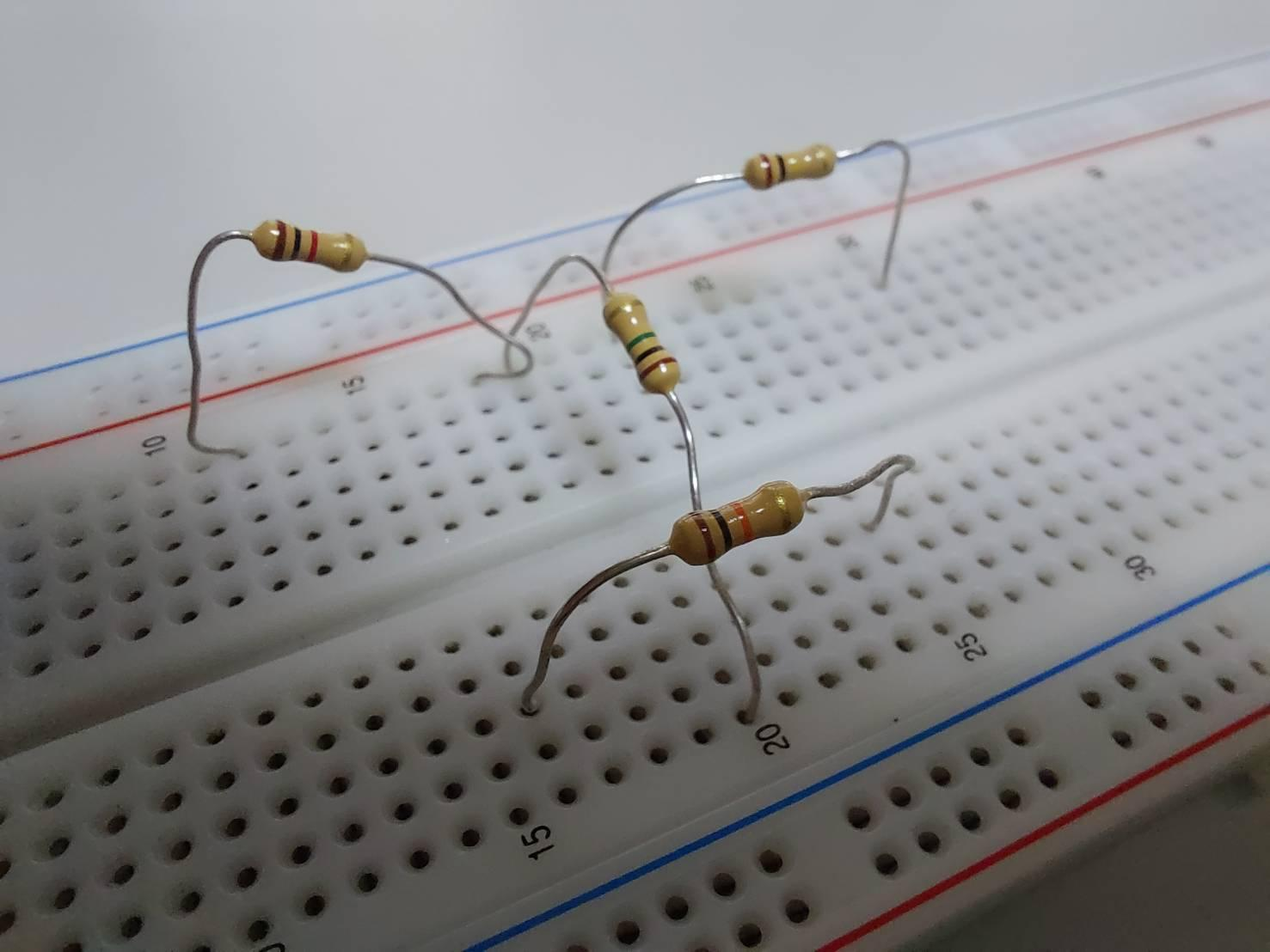resistor: (679, 484, 798, 557), (602, 291, 676, 397), (252, 218, 374, 277), (747, 142, 838, 189)
